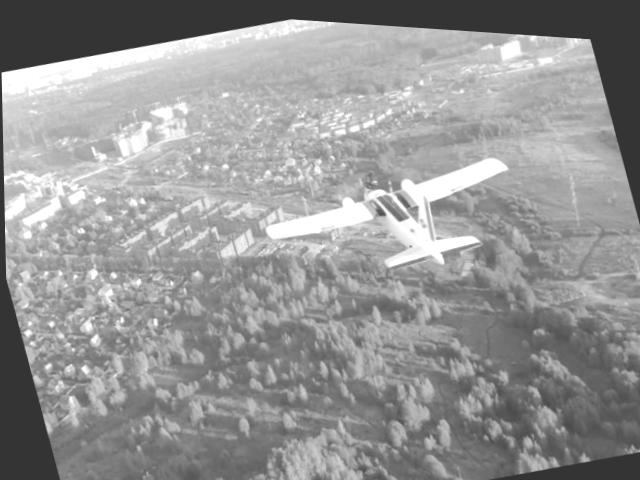hedef: (250, 111, 549, 305)
